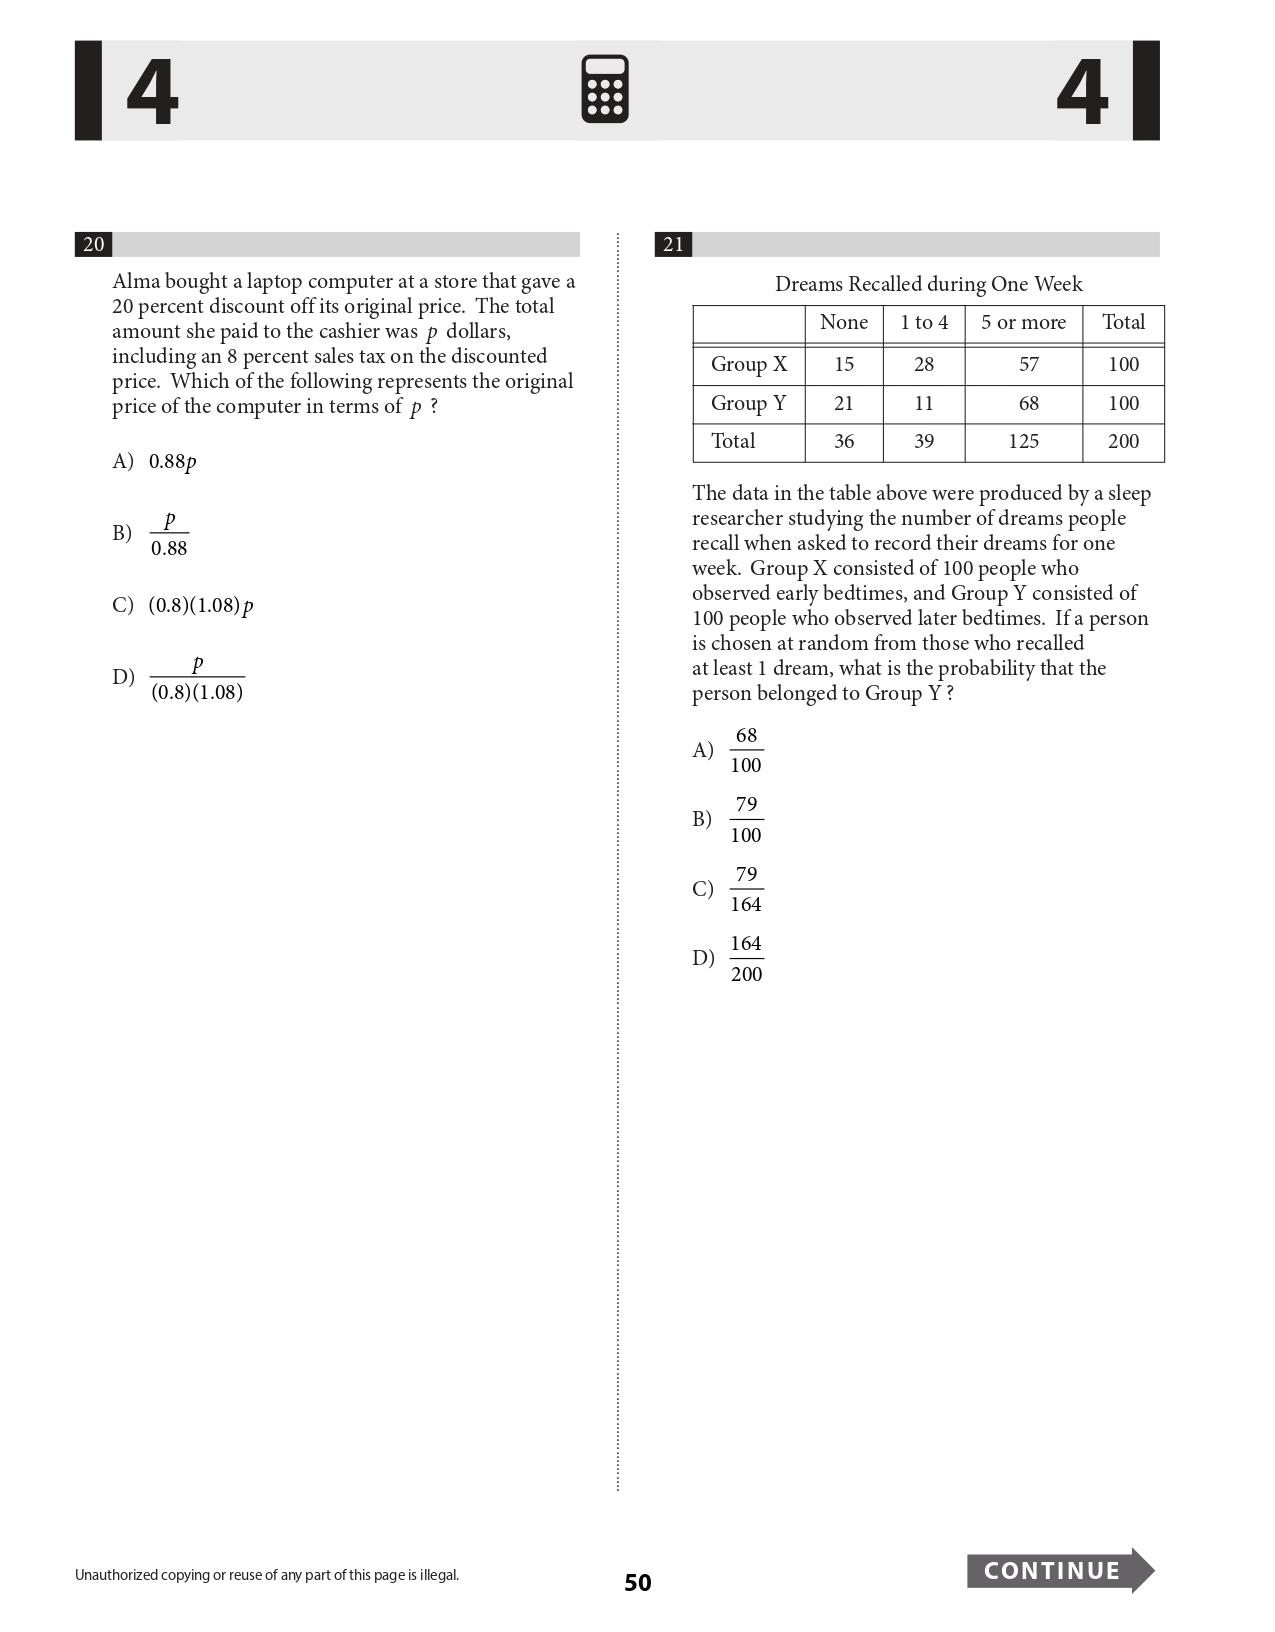Equation: (140, 584, 261, 634), (146, 650, 240, 709), (145, 504, 204, 567), (727, 719, 775, 779), (724, 930, 777, 983), (725, 859, 771, 918), (728, 789, 766, 854), (145, 442, 207, 480)
Image: (679, 265, 1201, 469), (568, 51, 645, 131)
Number: (1043, 46, 1115, 140), (114, 56, 197, 131), (604, 1556, 663, 1602), (650, 224, 701, 262), (71, 222, 115, 257)
Text: (681, 479, 1169, 706), (105, 261, 594, 421), (57, 1557, 471, 1591), (948, 1539, 1164, 1601), (99, 658, 139, 698), (684, 798, 721, 841), (684, 865, 718, 911), (99, 583, 134, 627), (687, 939, 721, 976), (681, 736, 716, 768), (106, 442, 138, 471), (105, 512, 134, 544)
